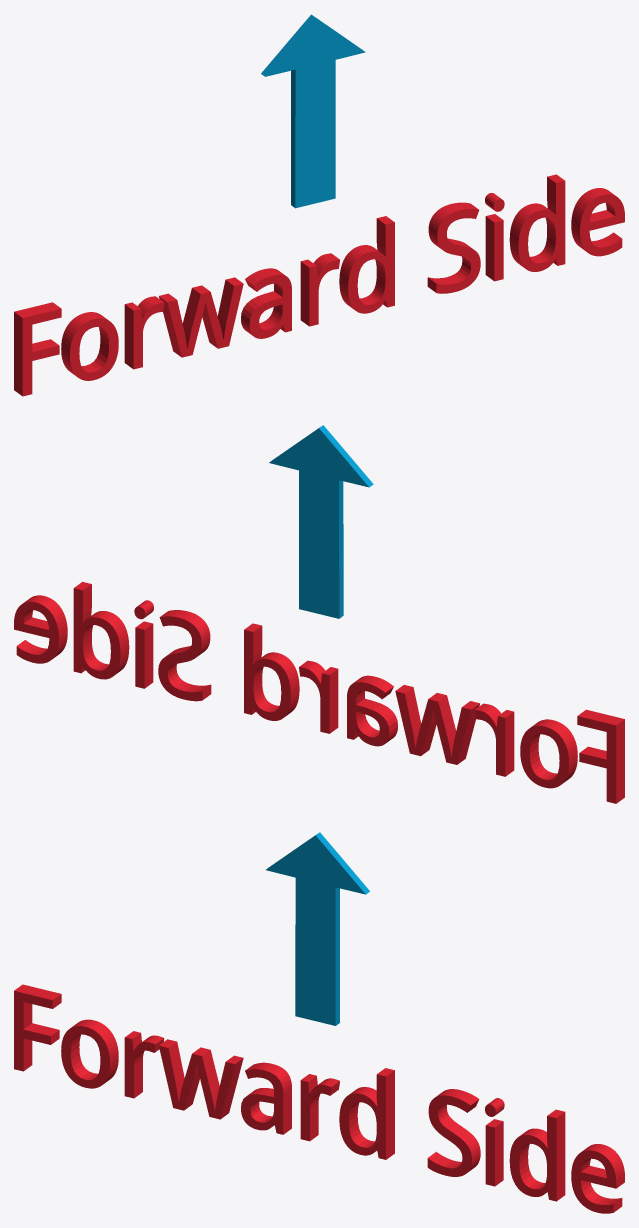
Rendered from direction arrow.obj.
The picture shows the model from 3 angles, top to bottom: view 1: azimuth 30°, elevation 25°; view 2: azimuth 150°, elevation 25°; view 3: azimuth 330°, elevation 25°; orthographic projection.
Parts seen in each view (by area): view 1: group_0_15277357, group_0_40919; view 2: group_0_15277357, group_0_40919; view 3: group_0_15277357, group_0_40919.
Boxes of the visible parts, x1,y1,x2,y2 form: group_0_15277357: (14, 174, 624, 396); group_0_40919: (261, 14, 365, 208); group_0_15277357: (14, 582, 624, 803); group_0_40919: (269, 425, 373, 618); group_0_15277357: (14, 984, 624, 1213); group_0_40919: (266, 832, 369, 1025).
Size of the model in its own units: 159 by 76.97 by 4.
